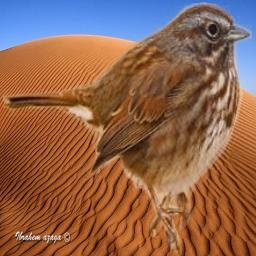Sparrow: (3, 2, 252, 255)
